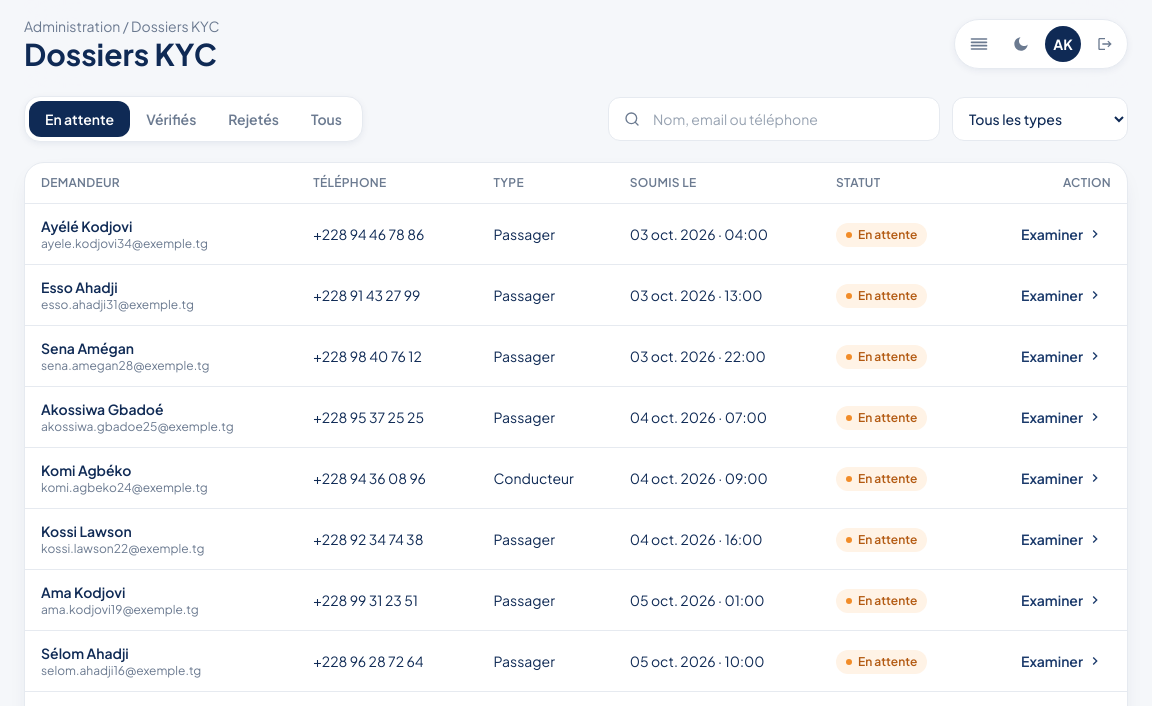
Scenario: liste des dossiers KYC › filtre par statut et par type, avec les filtres dans l’URL
The width and height of the screenshot is (1152, 706).
Click the button "Rejetés": (254, 119) [212,101,295,137]
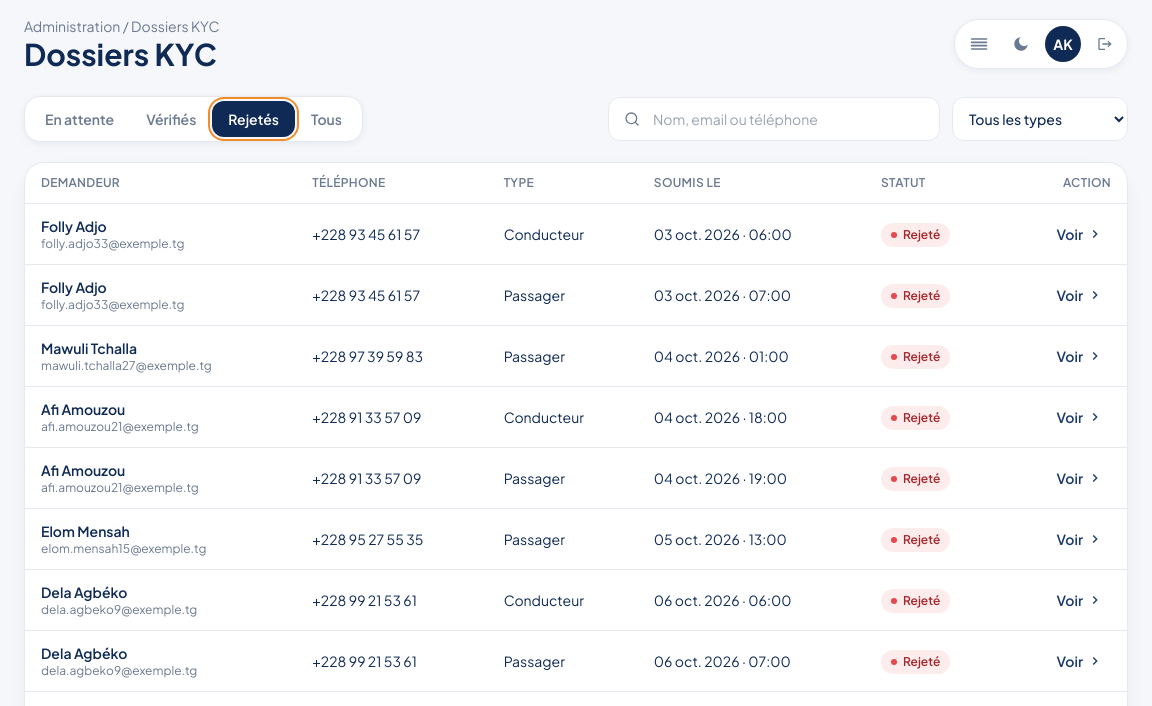
Select "Conducteur" in the dropdown named "Type de dossier": (1040, 119) [952,97,1128,141]
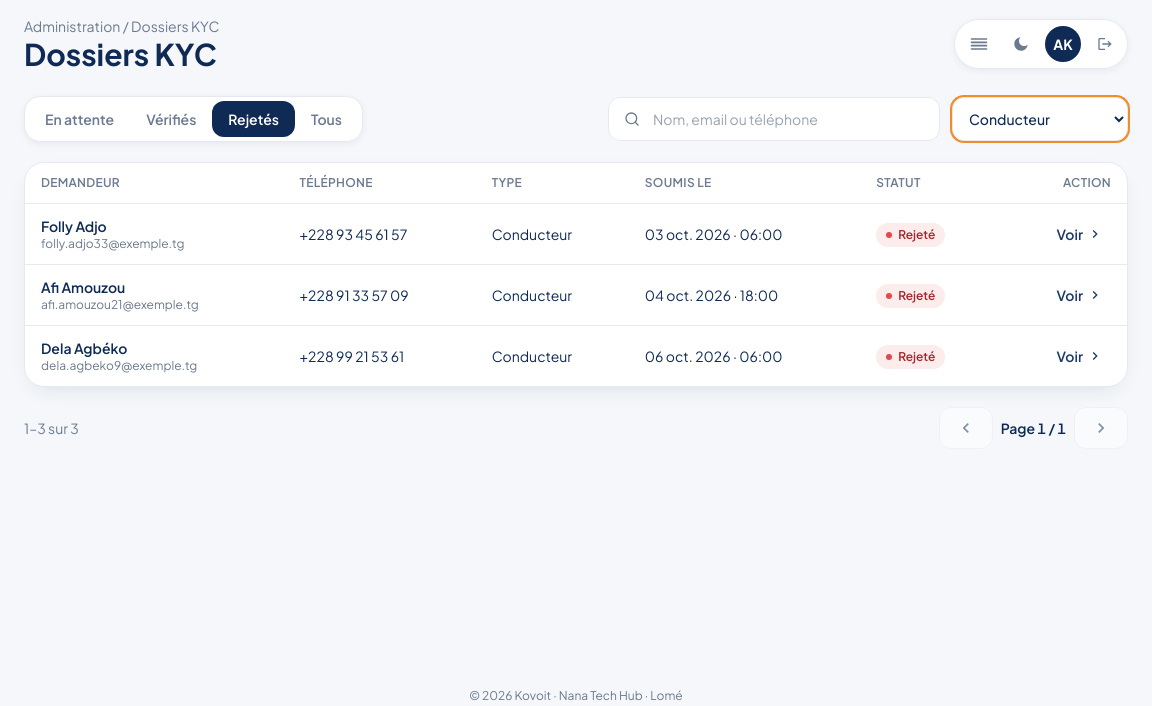
Expected: the number of rows is 4, [25,163,1127,204]; [25,204,1127,264]; [25,264,1127,326]; [25,326,1127,386]
Now the text "Rejeté" is shown 3 times, box [876,222,946,246]; [876,284,946,308]; [876,344,946,368]
